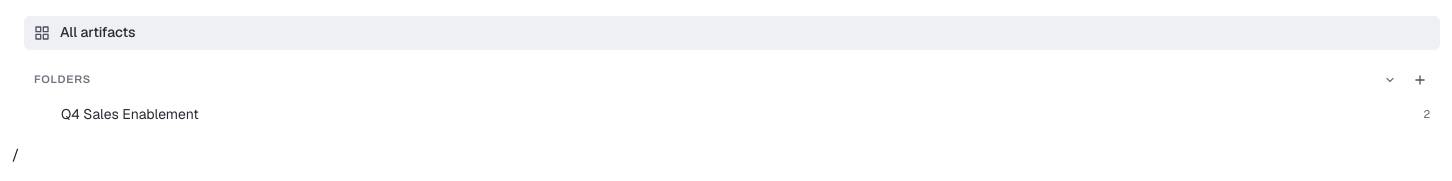
Scenario: LibrarySidebar › opens the Projects screen from the section label
Click the link "Folders".
click(62, 79)  # box left=34, top=73, right=91, bottom=85
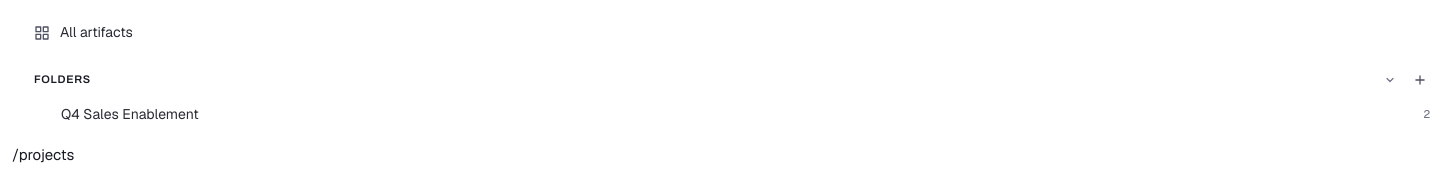
Result: the text with test id "where" reads "/projects" at left=12, top=145, right=74, bottom=164
